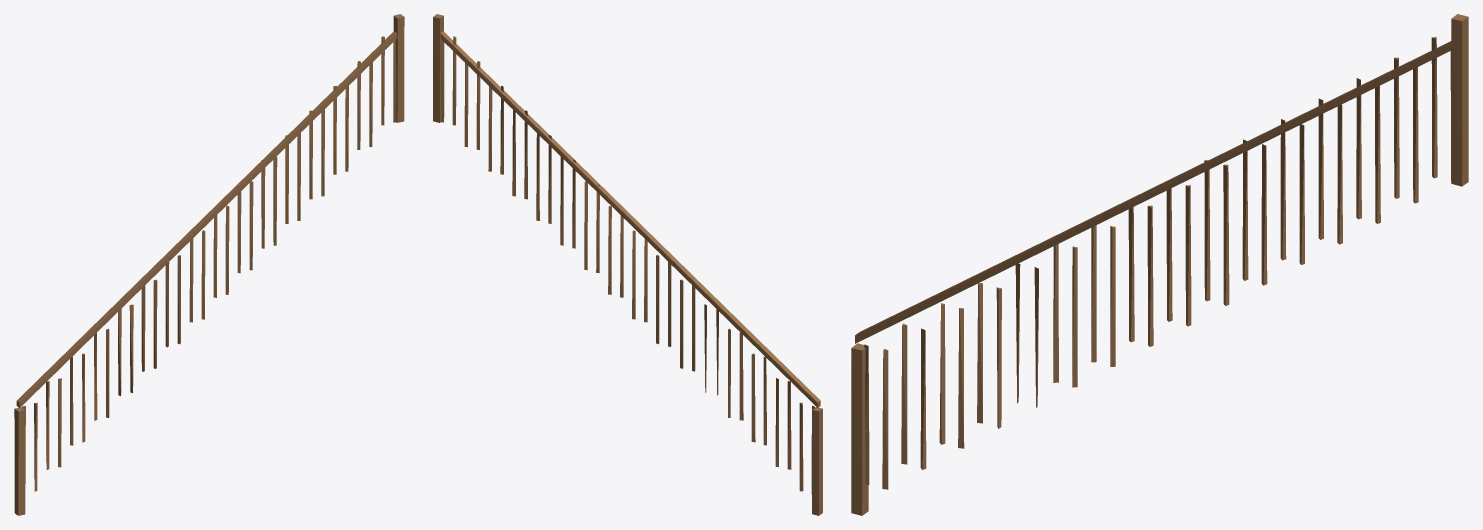
The model's file is SM_Kit_Stair_Rail_LOD2.glb.
The picture shows the model from 3 angles, left to right: view 1: azimuth 30°, elevation 25°; view 2: azimuth 150°, elevation 25°; view 3: azimuth 330°, elevation 25°; orthographic projection. The views are drawn at different scales.
Parts seen in each view (by area): view 1: SM_Kit_Stair_Rail_LOD2; view 2: SM_Kit_Stair_Rail_LOD2; view 3: SM_Kit_Stair_Rail_LOD2.
Part boxes in pixels (box(x1,y1,x2,y2)): SM_Kit_Stair_Rail_LOD2: box(14, 14, 404, 515); SM_Kit_Stair_Rail_LOD2: box(433, 14, 822, 515); SM_Kit_Stair_Rail_LOD2: box(851, 14, 1468, 515).
Bounding box in the file's own units: 4.03 × 4.04 × 0.0738.
